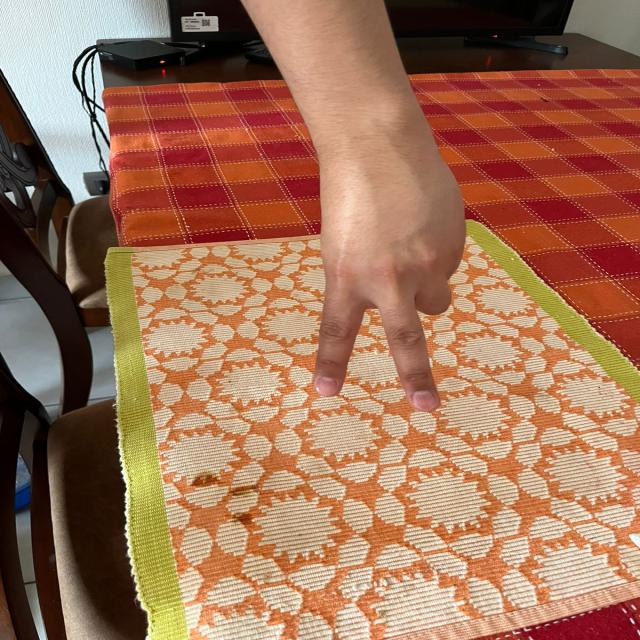N: (304, 126, 473, 419)
